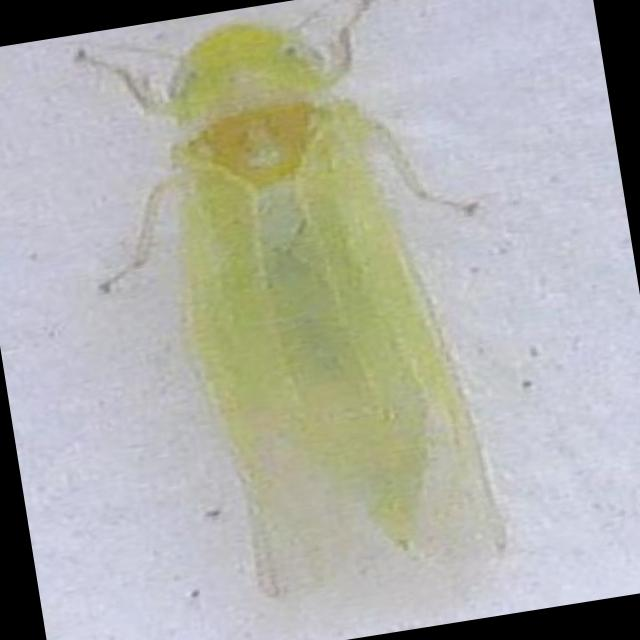green-leafhopper: (71, 0, 497, 608)
